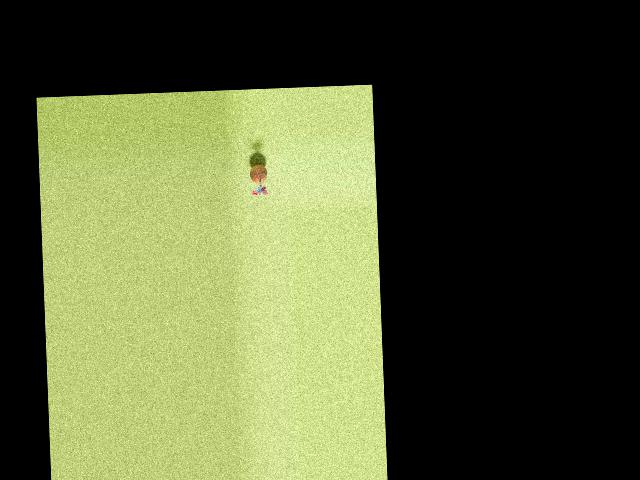egg: (250, 163, 267, 184)
